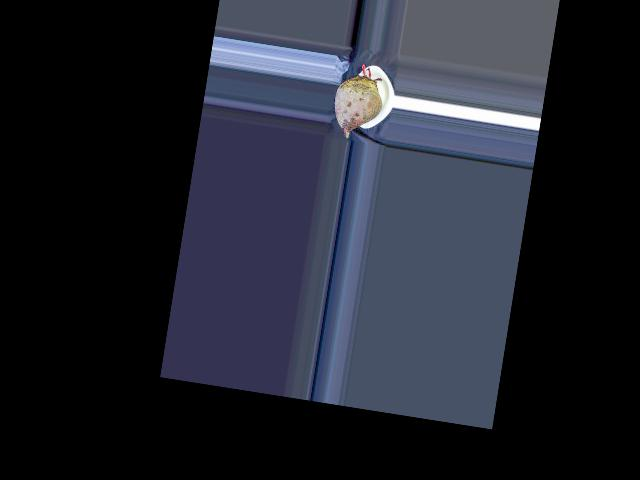beet: (330, 60, 388, 142)
